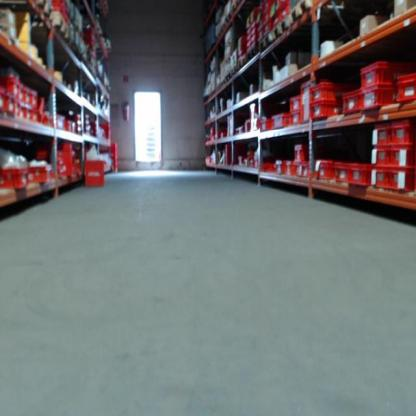pallet: (50, 9, 70, 42), (290, 0, 314, 26), (272, 16, 289, 42), (259, 32, 272, 53), (34, 0, 51, 15), (247, 43, 258, 61), (232, 0, 242, 14), (238, 55, 247, 69), (230, 63, 238, 78), (225, 12, 231, 26), (220, 79, 226, 89), (226, 73, 231, 84)
small_load_carrier: (358, 59, 405, 89), (359, 89, 403, 112), (1, 166, 28, 197), (310, 85, 343, 110), (309, 100, 344, 123), (390, 166, 414, 194), (301, 78, 315, 125), (339, 91, 362, 118), (396, 70, 416, 101), (349, 164, 370, 191), (84, 159, 105, 186), (29, 163, 53, 186), (392, 120, 413, 146), (314, 159, 336, 183), (370, 166, 393, 188), (333, 162, 354, 185), (371, 123, 391, 146), (370, 146, 392, 166), (390, 146, 413, 164), (270, 111, 289, 132), (1, 75, 18, 98), (292, 144, 315, 160), (289, 92, 300, 115), (44, 147, 65, 159), (290, 160, 302, 180), (1, 87, 9, 115), (259, 117, 272, 133), (272, 160, 285, 176), (289, 113, 303, 126), (281, 3, 291, 21), (48, 159, 66, 168), (19, 80, 26, 103), (5, 99, 15, 115), (271, 10, 279, 30), (301, 161, 311, 176), (30, 86, 37, 107), (53, 168, 65, 180), (13, 101, 21, 118), (24, 86, 31, 105)
